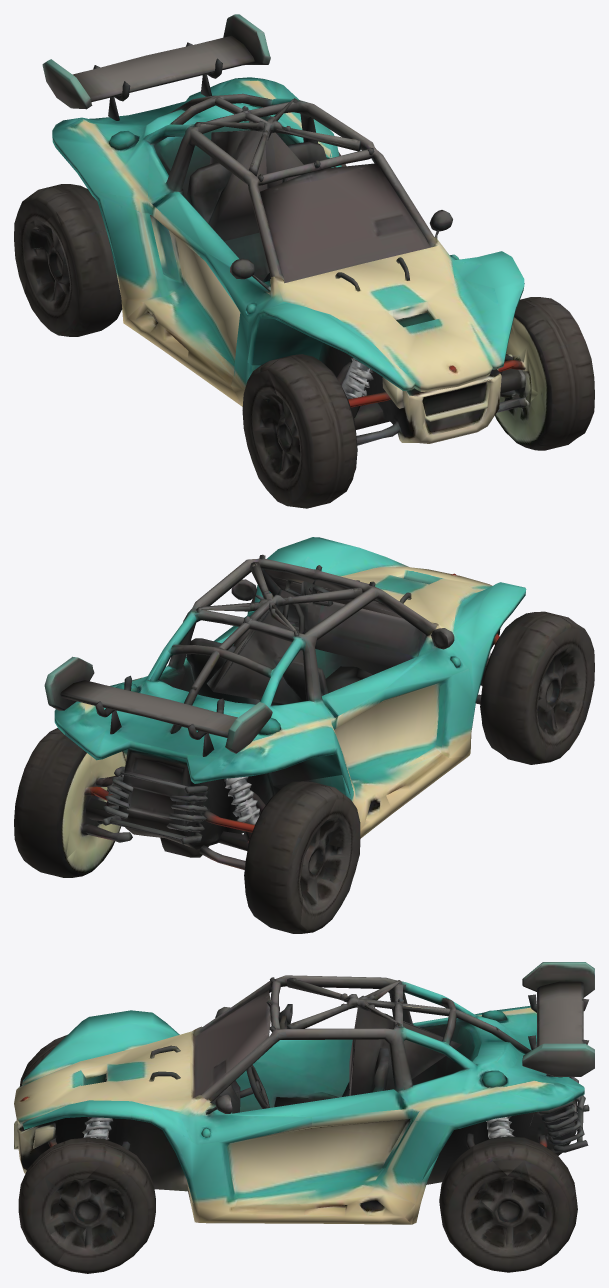
The model's file is rally-buggy.glb.
3 renders of one model, top to bottom at view 1: azimuth 30°, elevation 25°; view 2: azimuth 150°, elevation 25°; view 3: azimuth 270°, elevation 25°, orthographic. The views are drawn at different scales.
Visible parts, largest first — view 1: Car_Body, Wheel_RL, Wheel_FL, Wheel_FR; view 2: Car_Body, Wheel_FL, Wheel_RL, Wheel_RR; view 3: Car_Body, Wheel_RR, Wheel_FR.
Boxes of the visible parts, left/top/right/bottom form: Car_Body: left=14, top=14, right=594, bottom=508; Wheel_RL: left=24, top=212, right=127, bottom=336; Wheel_FL: left=242, top=361, right=300, bottom=505; Wheel_FR: left=495, top=327, right=538, bottom=447; Car_Body: left=14, top=537, right=594, bottom=933; Wheel_FL: left=469, top=639, right=583, bottom=764; Wheel_RL: left=274, top=775, right=360, bottom=933; Wheel_RR: left=64, top=749, right=127, bottom=877; Car_Body: left=14, top=962, right=594, bottom=1271; Wheel_RR: left=405, top=1146, right=551, bottom=1272; Wheel_FR: left=46, top=1146, right=200, bottom=1273.
Size of the model in its own units: 1.88 by 1.52 by 3.65.
Materials: 1 (1 with a texture image).
